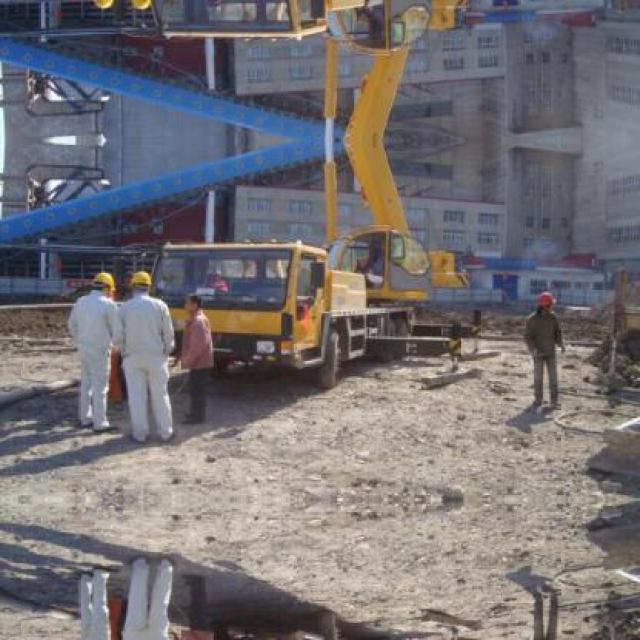helmet: (89, 271, 114, 295), (128, 272, 152, 294), (534, 291, 555, 312), (90, 0, 116, 11), (127, 0, 152, 9)
